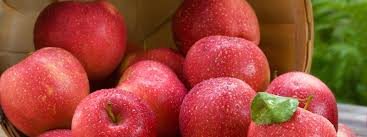apple: (31, 6, 127, 79), (3, 50, 85, 130), (118, 58, 195, 129), (191, 36, 276, 95), (171, 6, 270, 53), (266, 68, 341, 125), (181, 78, 253, 137), (71, 90, 154, 137)
